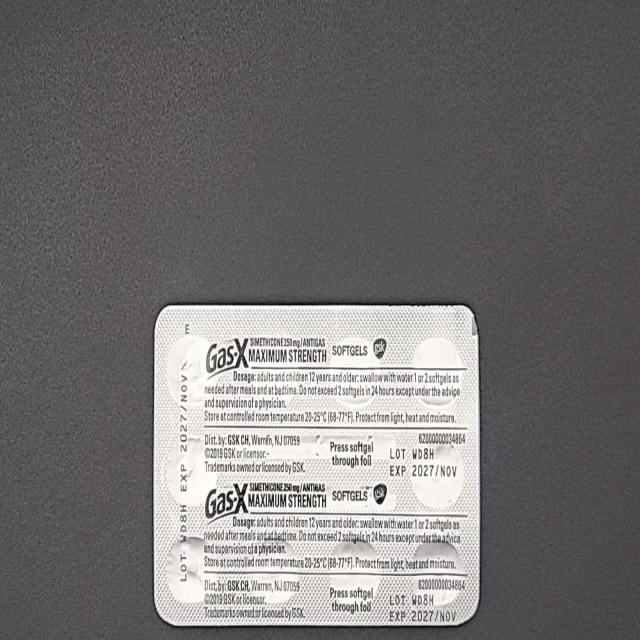no defect: (12, 18, 36, 61)
